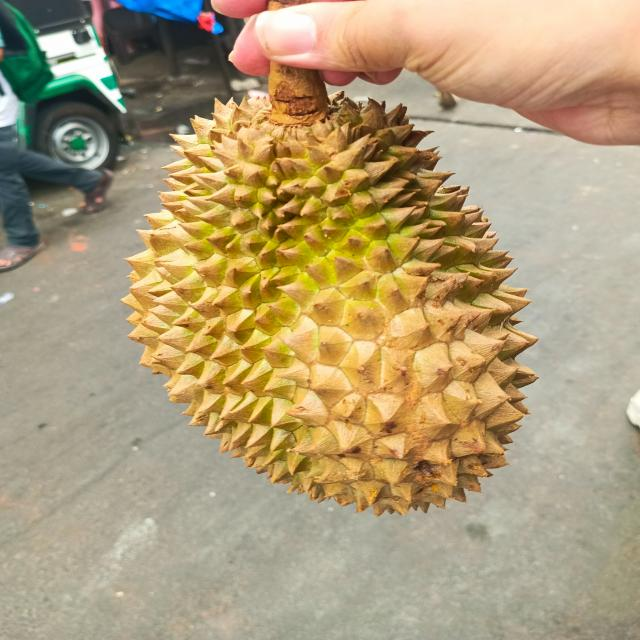mature: (120, 80, 534, 512)
